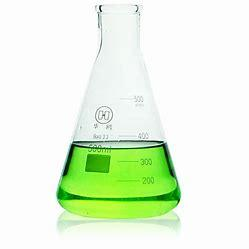Titrarion: (51, 9, 187, 220)
